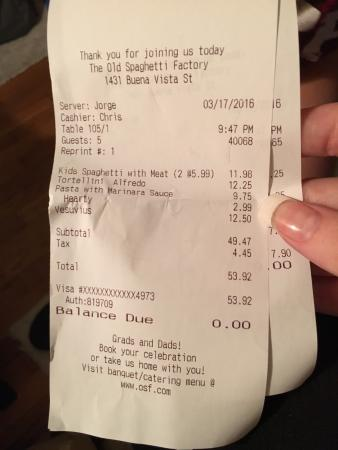Additional details: (49, 331, 262, 408)
Purchase summary: (51, 96, 266, 334)
Receipt: (48, 1, 267, 431)
Shop details: (55, 47, 236, 97)
